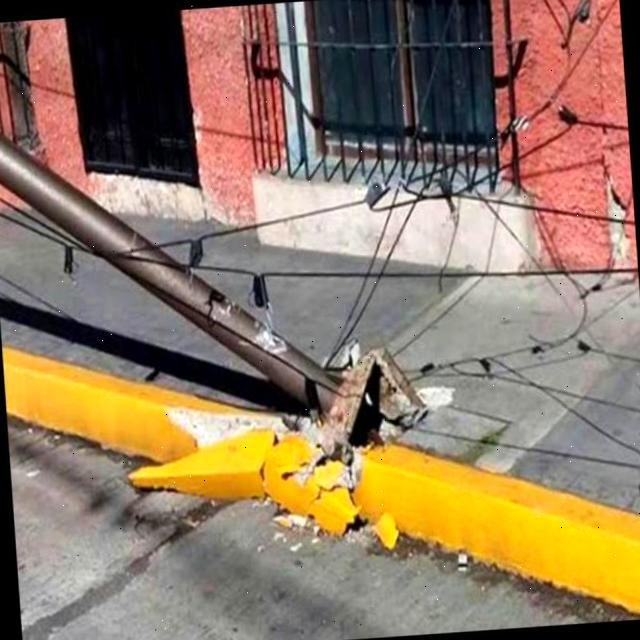Broken Pole: (0, 133, 432, 452)
